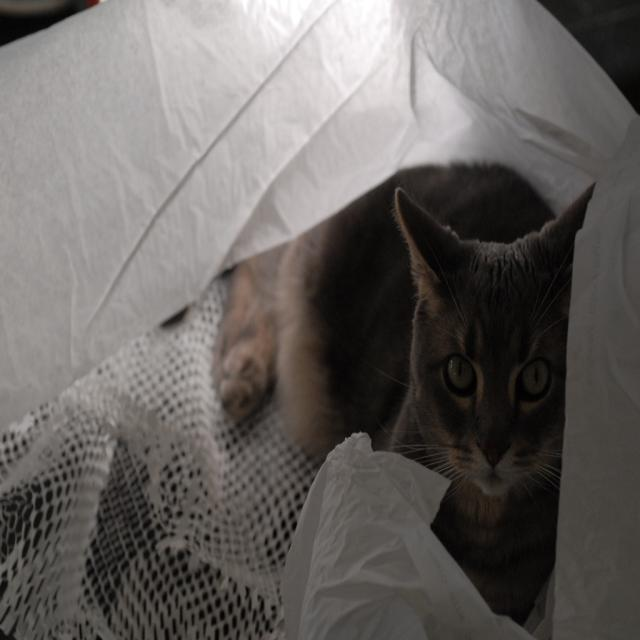Cat: (173, 162, 596, 625)
